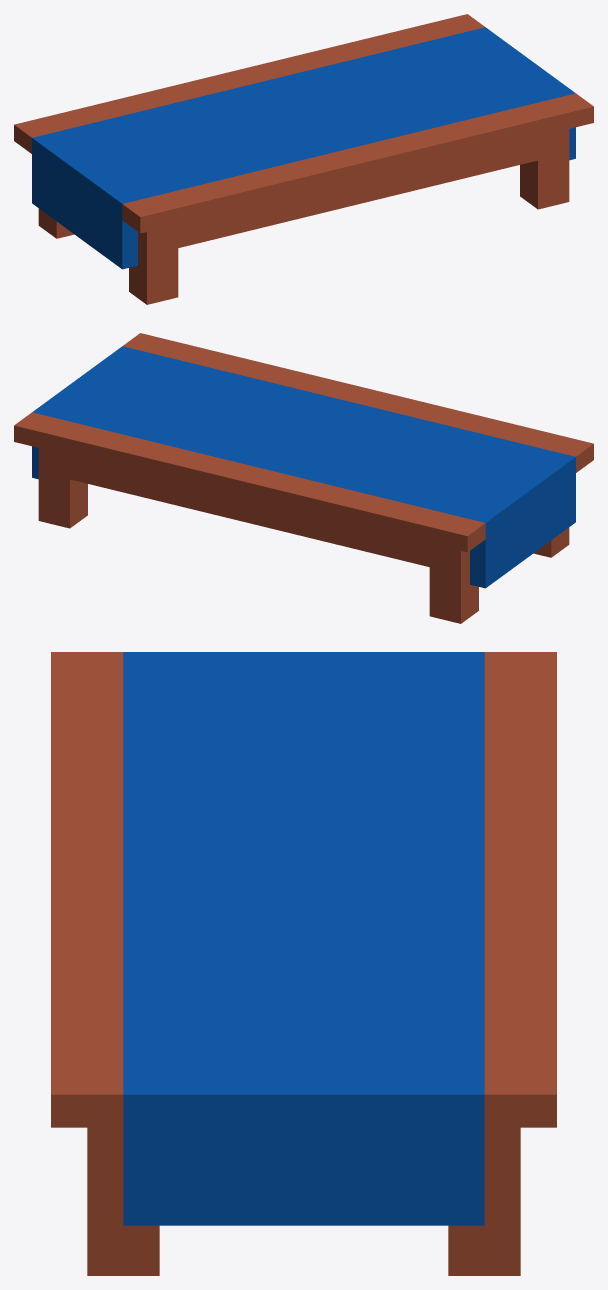
Rendered from large_table_a_blue.obj.
3 renders of one model, top to bottom at view 1: azimuth 30°, elevation 25°; view 2: azimuth 150°, elevation 25°; view 3: azimuth 270°, elevation 25°, orthographic. The views are drawn at different scales.
Bounding box in the file's own units: 2.9 × 0.6 × 1.4.
Materials: 1 (1 with a texture image).
